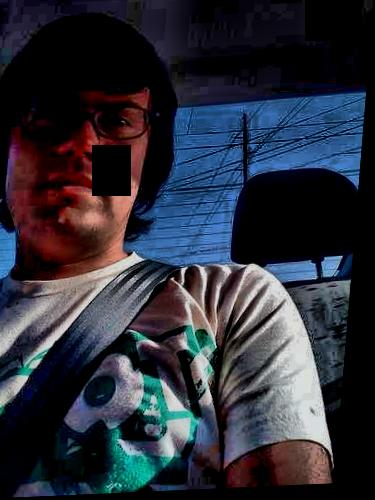seatbelt: (0, 237, 188, 478)
